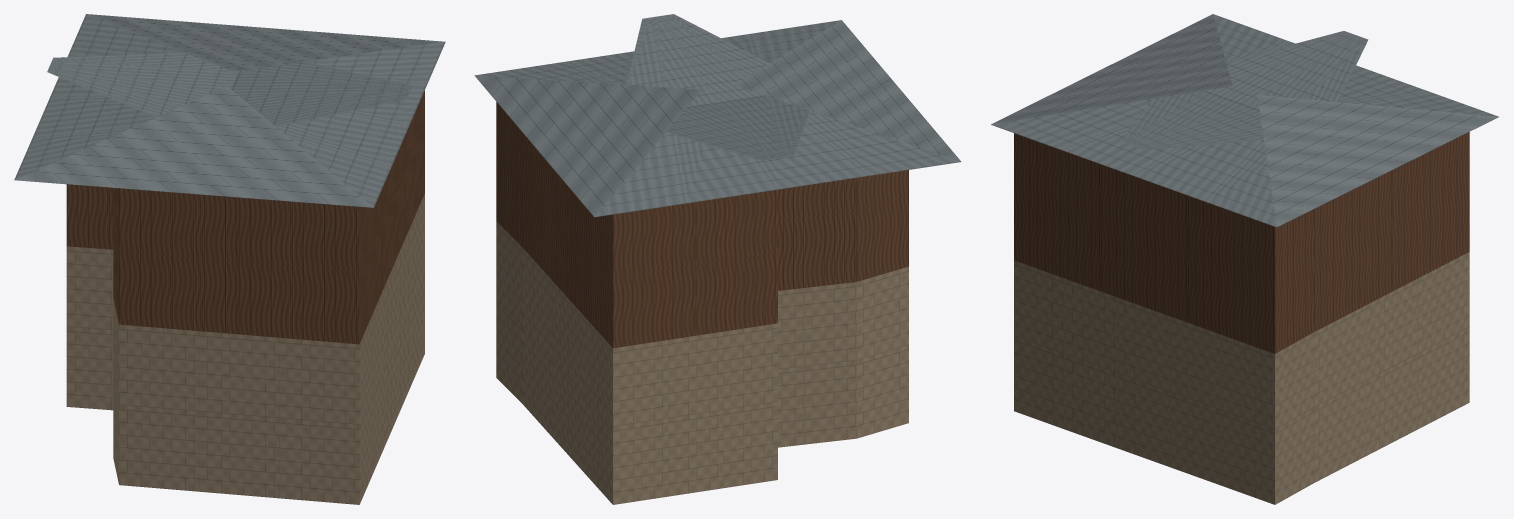
File: bld_c14_37_409.gltf
3 renders of one model, left to right at view 1: azimuth 30°, elevation 25°; view 2: azimuth 150°, elevation 25°; view 3: azimuth 270°, elevation 25°, orthographic. The views are drawn at different scales.
Visible parts, largest first — view 1: bld_c14_37_409; view 2: bld_c14_37_409; view 3: bld_c14_37_409.
Boxes of the visible parts, x1=… form: bld_c14_37_409: x1=14, y1=14, x2=445, y2=504; bld_c14_37_409: x1=474, y1=14, x2=961, y2=504; bld_c14_37_409: x1=991, y1=14, x2=1498, y2=504.
Bounding box in the file's own units: 15.14 × 10.5 × 15.25.
Materials: 3 (3 with a texture image).
